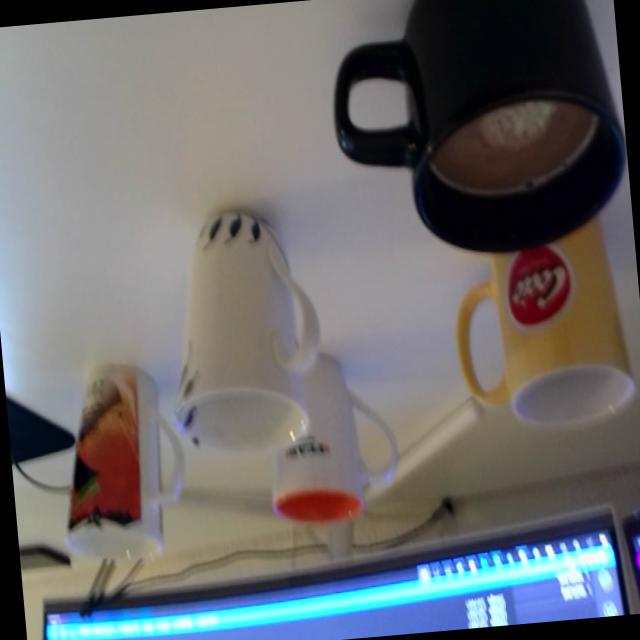Cocio Cup: (443, 224, 640, 436)
Cup: (323, 0, 634, 267)
Halloween cup: (48, 356, 192, 568)
Hand painted cup: (153, 197, 340, 470)
White Cup: (258, 347, 404, 530)
